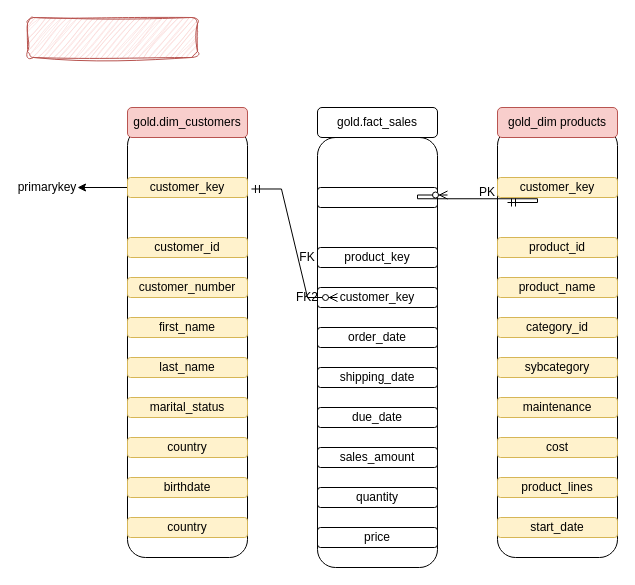
This 635x585 diagram has some shape labels left out. The shapes that lost their labels are listed below. From the top down, each one's box as (x1, y1, x2, y2) in pixels, then its label:
(26, 16, 198, 58): sales data mart
(316, 186, 438, 208): order_number
